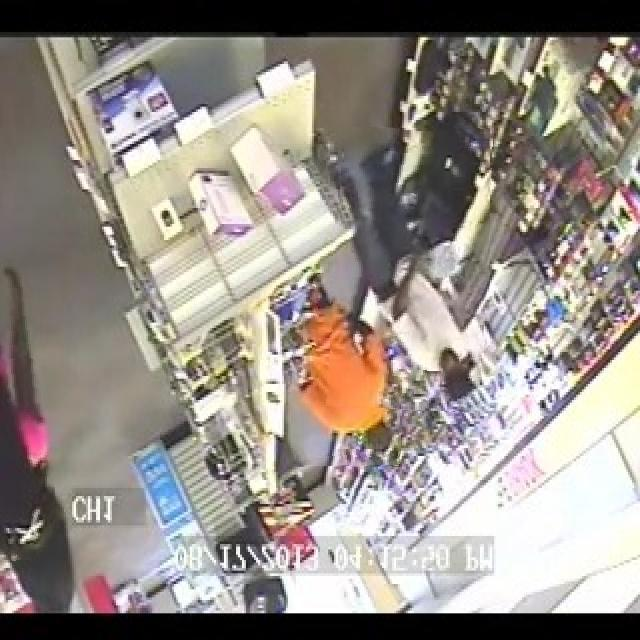Normal: (330, 127, 490, 411), (292, 271, 400, 466), (0, 245, 53, 561)
